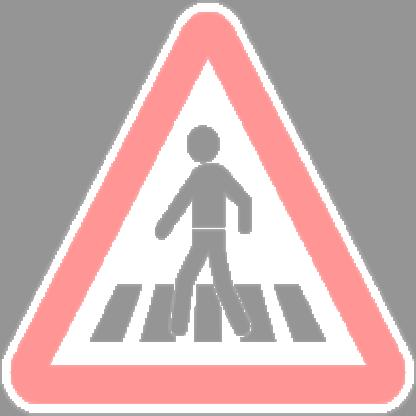Pedestrian Crossing: (21, 29, 386, 386)
